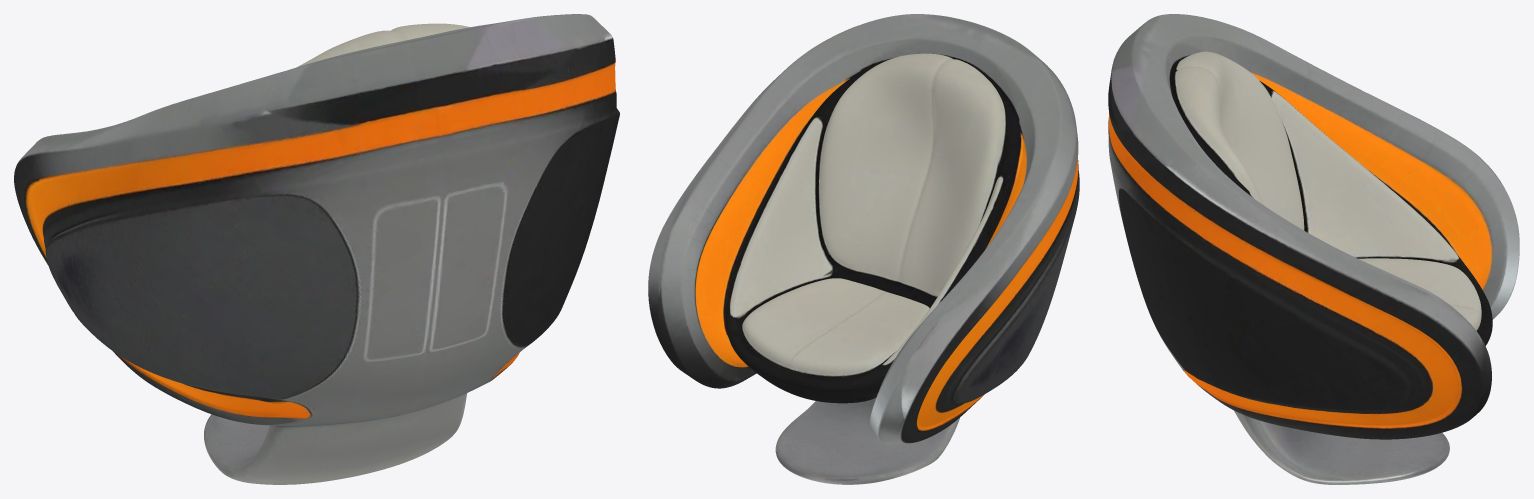
The model's file is ScifiChair.compressed.glb.
The picture shows the model from 3 angles, left to right: view 1: azimuth 30°, elevation 25°; view 2: azimuth 150°, elevation 25°; view 3: azimuth 270°, elevation 25°; orthographic projection. The views are drawn at different scales.
Parts seen in each view (by area): view 1: Mesh_0.003; view 2: Mesh_0.003; view 3: Mesh_0.003.
Part boxes in pixels (<box>): Mesh_0.003: <box>14,14,619,484</box>; Mesh_0.003: <box>648,14,1079,484</box>; Mesh_0.003: <box>1108,14,1519,484</box>.
Size of the model in its own units: 23.57 by 24.01 by 22.58.
1 material, 1 textured.
